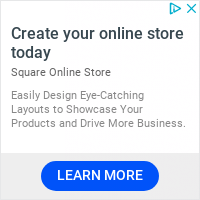fake_button: (34, 158, 166, 199)
